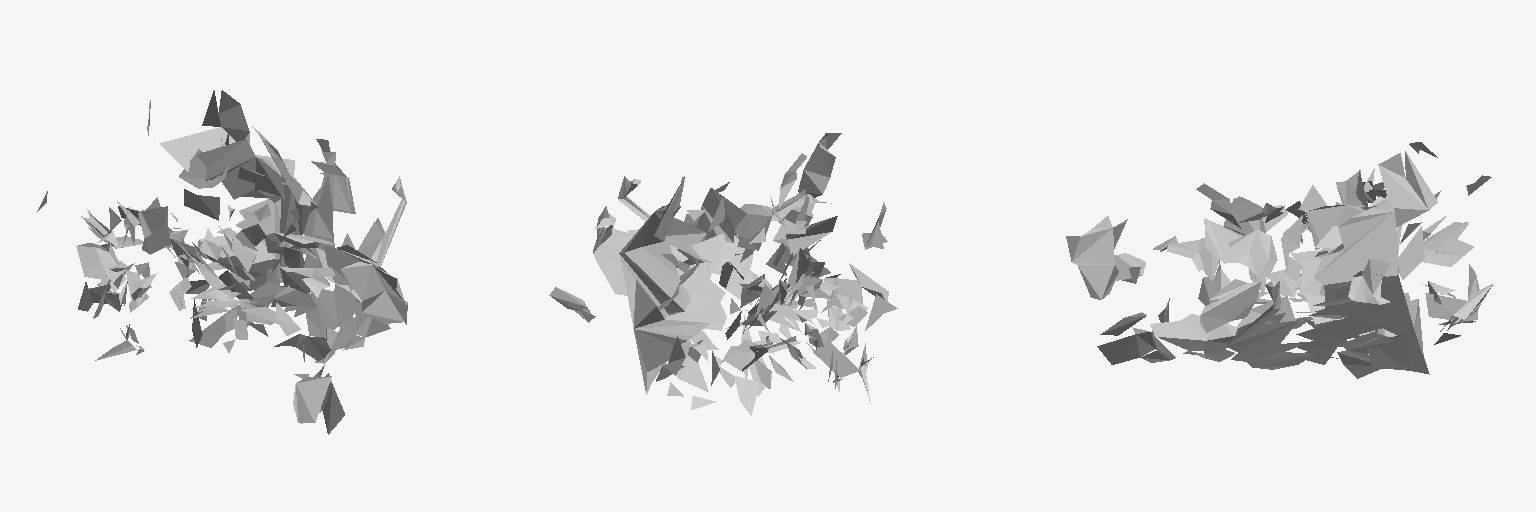
File: spacecraftExplosion_000003.obj
3 views of the same model, side by side, from view 1: azimuth 30°, elevation 25°; view 2: azimuth 150°, elevation 25°; view 3: azimuth 270°, elevation 25° (orthographic).
Visible parts, largest first — view 1: Cube; view 2: Cube; view 3: Cube.
Part boxes in pixels (x1,y1,x2,y2): Cube: (37, 90, 407, 434); Cube: (549, 133, 897, 415); Cube: (1066, 142, 1493, 378).
Size of the model in its own units: 7.99 by 5.91 by 9.86.